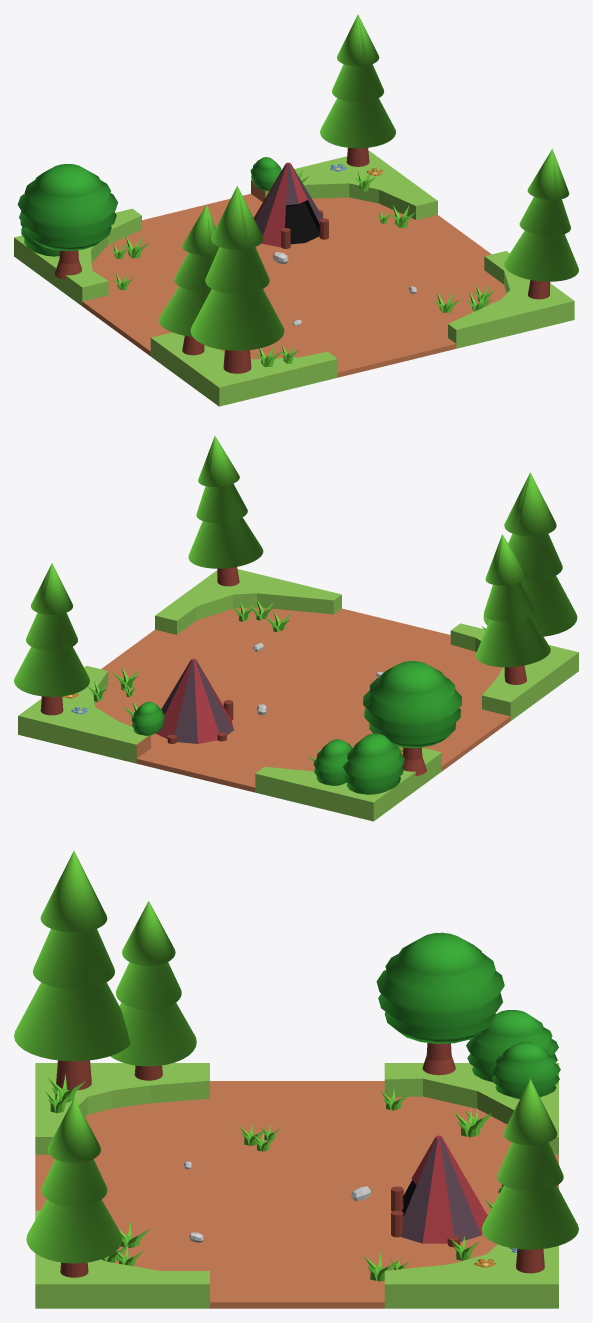
The model's file is jungle level set - 4 Way - wide area.fbx.
3 renders of one model, top to bottom at view 1: azimuth 30°, elevation 25°; view 2: azimuth 150°, elevation 25°; view 3: azimuth 270°, elevation 25°, orthographic. The views are drawn at different scales.
Visible parts, largest first — view 1: land_platform_001, tree_006, tree_004, tree_001, tree_000, tree_005, camp, bush_002; view 2: land_platform_001, tree_004, tree_001, tree_000, tree_005, tree_006, camp, bush_003, bush_001, bush_002; view 3: land_platform_001, tree_006, tree_004, tree_001, tree_000, tree_005, camp, bush_003, bush_001.
Part boxes in pixels (bbox=[...]): land_platform_001: bbox=[14, 151, 574, 406]; tree_006: bbox=[190, 186, 284, 373]; tree_004: bbox=[17, 164, 117, 279]; tree_001: bbox=[320, 14, 395, 166]; tree_000: bbox=[504, 149, 578, 299]; tree_005: bbox=[158, 205, 219, 355]; camp: bbox=[254, 162, 328, 248]; bush_002: bbox=[250, 157, 281, 191]; land_platform_001: bbox=[18, 569, 578, 821]; tree_004: bbox=[363, 661, 461, 775]; tree_001: bbox=[14, 563, 89, 715]; tree_000: bbox=[188, 436, 263, 586]; tree_005: bbox=[476, 534, 550, 684]; tree_006: bbox=[483, 472, 577, 636]; camp: bbox=[156, 658, 233, 743]; bush_003: bbox=[343, 733, 404, 794]; bush_001: bbox=[313, 739, 352, 785]; bush_002: bbox=[131, 701, 164, 735]; land_platform_001: bbox=[35, 1063, 558, 1308]; tree_006: bbox=[14, 851, 130, 1090]; tree_004: bbox=[376, 932, 504, 1075]; tree_001: bbox=[482, 1079, 578, 1273]; tree_000: bbox=[26, 1098, 122, 1277]; tree_005: bbox=[110, 901, 196, 1080]; camp: bbox=[391, 1135, 488, 1247]; bush_003: bbox=[466, 1010, 558, 1082]; bush_001: bbox=[491, 1042, 560, 1099].
Bounding box in the file's own units: 17.34 × 8.27 × 16.37.
